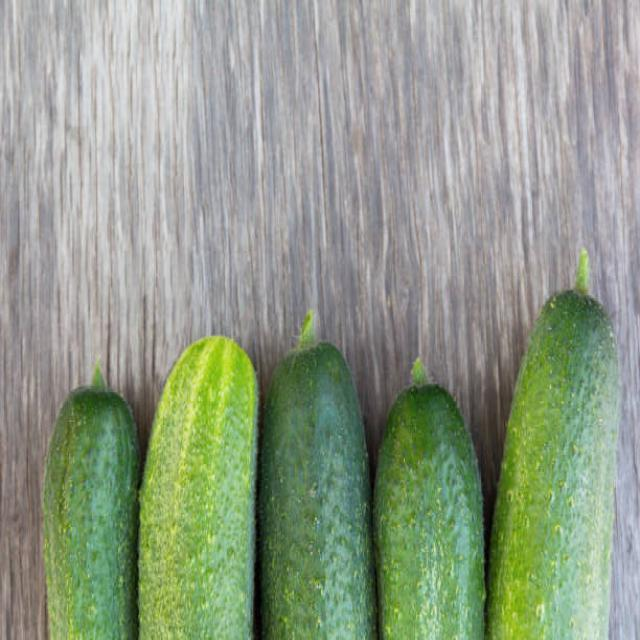cucumber: (486, 286, 622, 640), (138, 333, 259, 640), (260, 339, 378, 640), (370, 380, 486, 640), (41, 386, 141, 640)
